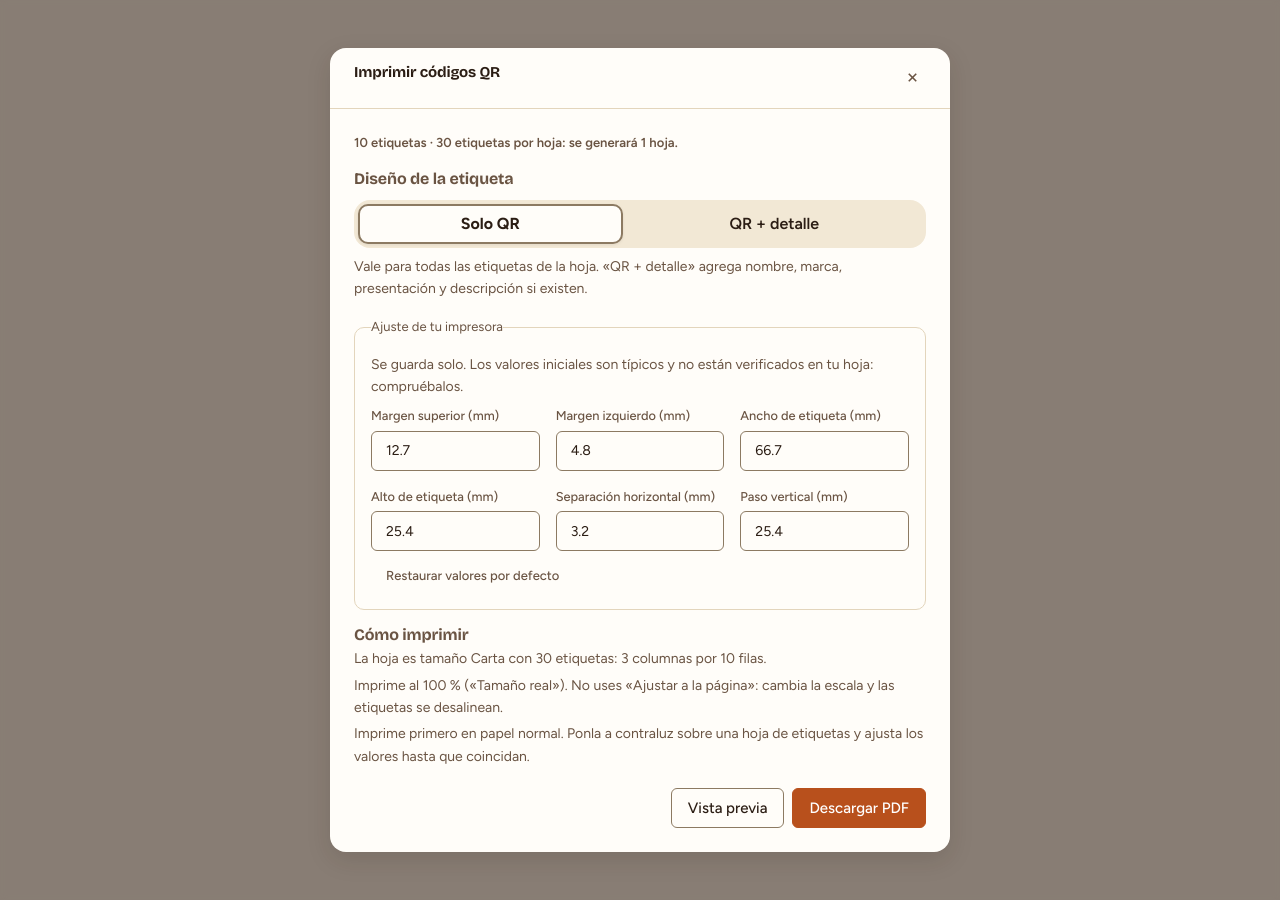
Test: LabelPrintDialog — acciones › con un error de calibración pendiente no deja generar con un valor a medias
Step 1. Replace the text in the number field labelled "Margen superior (mm)" with "99" → (455, 451), box [371,431,540,471]
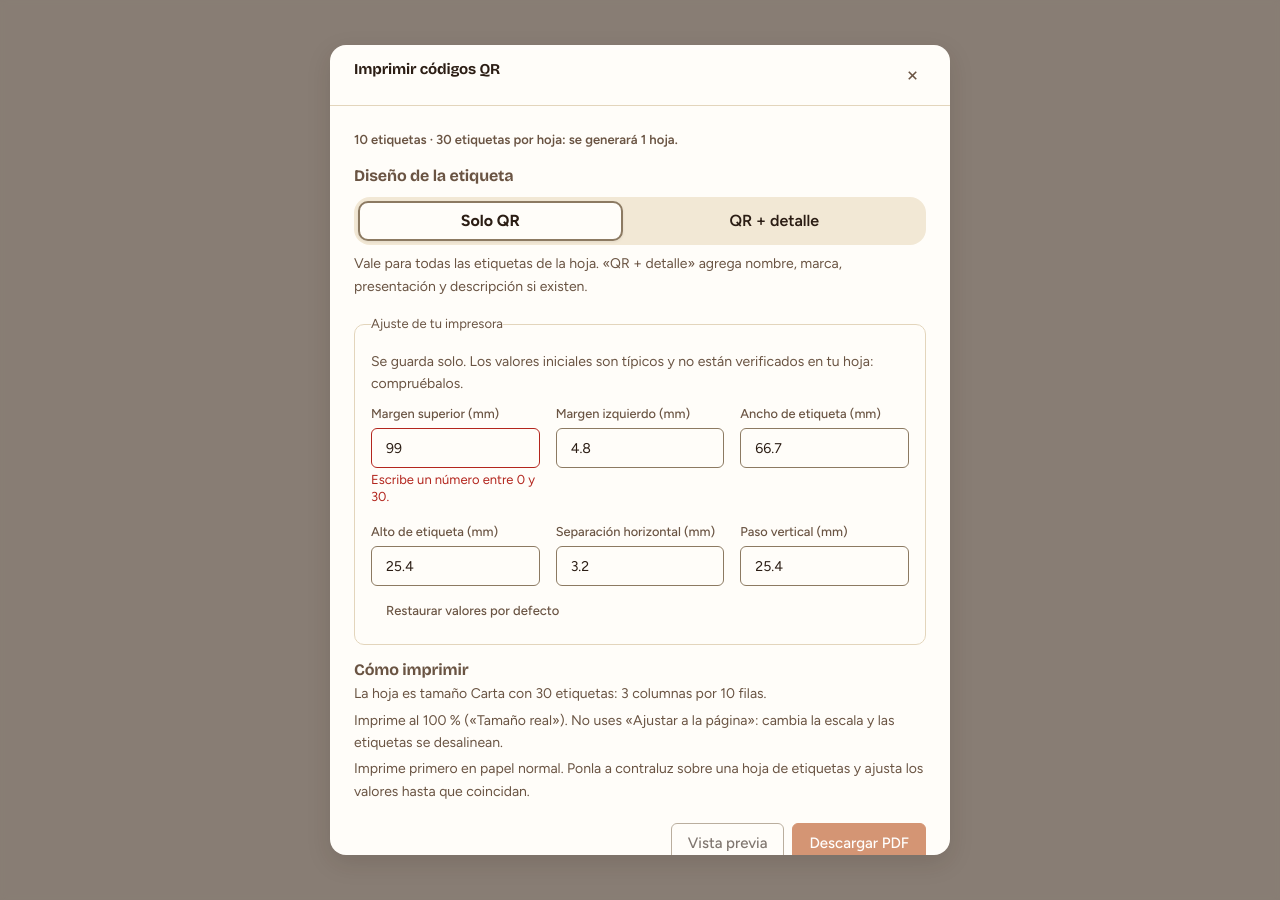
expect the button "Vista previa" is disabled: met, box [671,823,784,855]
expect the button "Descargar PDF" is disabled: met, box [792,823,926,855]
